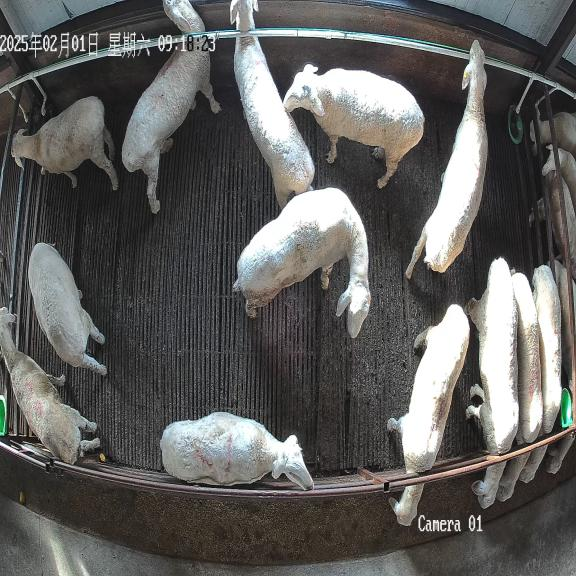eating: (387, 304, 470, 526), (466, 258, 519, 508), (496, 272, 543, 502), (519, 265, 562, 483)
lying: (160, 412, 314, 490)
stand: (122, 0, 220, 213), (234, 188, 371, 338), (405, 40, 488, 280), (230, 0, 315, 209), (283, 63, 424, 188), (0, 306, 100, 464), (28, 242, 107, 375), (11, 96, 118, 190)
